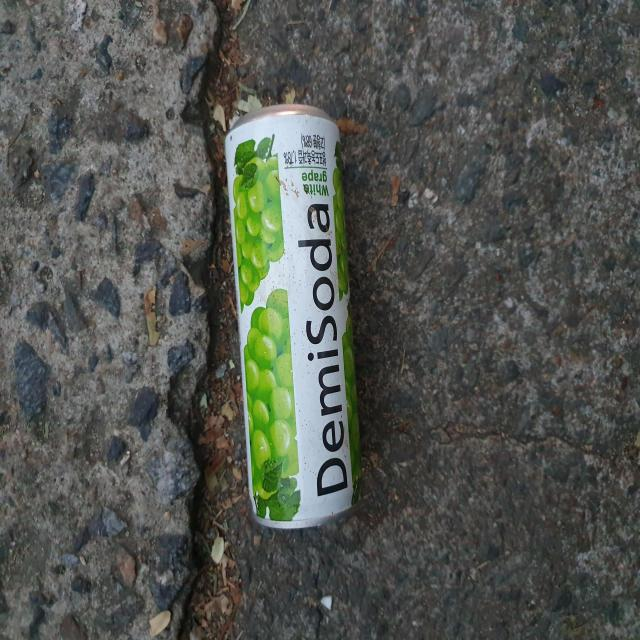can: (225, 103, 361, 528)
